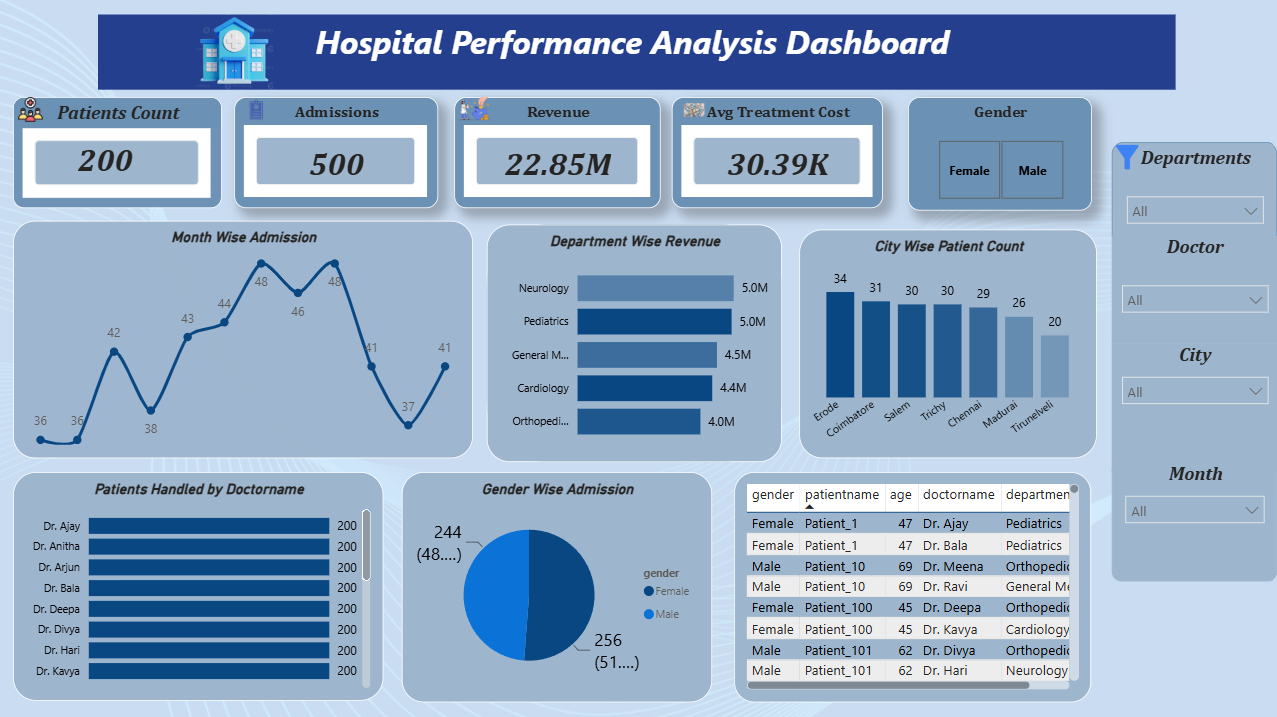

The page's visual inventory and layout, read from the dashboard file:
{"tool":"powerbi","page":{"name":"Page 1","canvas":[1280,720],"ordinal":0},"visuals":[{"type":"shape","box":[488.5,227.8,295,237.4],"z":0},{"type":"cardVisual","title":"Admissions","fields":{"Data":["public admissions.Total Admission"]},"box":[236.2,100,203.8,111.2],"z":2000},{"type":"cardVisual","title":"Revenue","fields":{"Data":["public admissions.Total Revenue"]},"box":[456.2,100,206.2,111.2],"z":3000},{"type":"cardVisual","title":"Avg Treatment Cost","fields":{"Data":["public admissions.Average Treatement cost"]},"box":[673.8,100.2,211.3,111.1],"z":4000},{"type":"lineChart","title":"Month Wise Admission","fields":{"Y":["public admissions.Total Admission"],"Category":["public admissions.admitdate.Variation.Date Hierarchy.Month"]},"box":[15,223.8,460,237.5],"z":5000},{"type":"pieChart","title":"Gender Wise Admission","fields":{"Category":["public patients.gender"],"Y":["public admissions.Total Admission"]},"box":[403.3,474.4,310,230],"z":6000},{"type":"clusteredBarChart","title":" Department Wise Revenue","fields":{"Y":["public admissions.Total Revenue"],"Category":["public departments.departmentname"]},"box":[488.5,227.8,295,237.4],"z":7000},{"type":"clusteredColumnChart","title":"City Wise Patient Count","fields":{"Category":["public patients.city"],"Y":["public admissions.Total Patients"]},"box":[801.4,231.9,297.8,229.2],"z":8000},{"type":"barChart","title":"Patients Handled by Doctorname","fields":{"Category":["public doctors.doctorname"],"Y":["public admissions.Total Patients"]},"box":[15.1,474.8,370.5,229.2],"z":9000},{"type":"slicer","title":"Departments","fields":{"Values":["public departments.departmentname"]},"box":[1113.3,144.4,166.7,104.4],"z":10000},{"type":"slicer","title":"Doctor","fields":{"Values":["public doctors.doctorname"]},"box":[1113.3,238.9,166.7,107.8],"z":11000},{"type":"slicer","title":"Gender","fields":{"Values":["public patients.gender"]},"box":[909.8,100.2,183.9,113.9],"z":12000},{"type":"slicer","title":"City","fields":{"Values":["public patients.city"]},"box":[1113.3,346.7,166.7,127.8],"z":13000},{"type":"slicer","title":"Month","fields":{"Values":["public admissions.dischargedate.Variation.Date Hierarchy.Month"]},"box":[1113.3,461.1,166.7,123.3],"z":14000},{"type":"textbox","box":[100,17.5,1077.5,75],"z":15000},{"type":"tableEx","fields":{"Values":["public patients.gender","public patients.patientname","public patients.age","public doctors.doctorname","public departments.departmentname"]},"box":[736.7,474.4,356.7,230],"z":16000},{"type":"cardVisual","title":"Patients Count           ","fields":{"Data":["public admissions.Total Patients"]},"box":[15,100,208.8,111.2],"z":17000},{"type":"image","box":[197.5,7.5,77.5,92.5],"z":18000},{"type":"image","box":[236,100.2,43.9,24.7],"z":19000},{"type":"image","box":[0,100.2,64.5,24.7],"z":20000},{"type":"image","box":[673.8,105.7,45.3,13.7],"z":21000},{"type":"image","box":[444.6,100.2,61.7,24.7],"z":22000},{"type":"image","box":[1081.3,144.1,96.1,32.9],"z":23000}]}

Visuals, with their boxes in screenshot pixels (x1, y1, x2, y2), scaled from the page's 1280x720 canvas onto the 1277x717 screenshot:
shape: bbox=[487, 227, 782, 463]
"Admissions" cardVisual: bbox=[236, 100, 439, 210]
"Revenue" cardVisual: bbox=[455, 100, 661, 210]
"Avg Treatment Cost" cardVisual: bbox=[672, 100, 883, 210]
"Month Wise Admission" lineChart: bbox=[15, 223, 474, 459]
"Gender Wise Admission" pieChart: bbox=[402, 472, 712, 701]
" Department Wise Revenue" clusteredBarChart: bbox=[487, 227, 782, 463]
"City Wise Patient Count" clusteredColumnChart: bbox=[800, 231, 1097, 459]
"Patients Handled by Doctorname" barChart: bbox=[15, 473, 385, 701]
"Departments" slicer: bbox=[1111, 144, 1276, 248]
"Doctor" slicer: bbox=[1111, 238, 1276, 345]
"Gender" slicer: bbox=[908, 100, 1091, 213]
"City" slicer: bbox=[1111, 345, 1276, 473]
"Month" slicer: bbox=[1111, 459, 1276, 582]
textbox: bbox=[100, 17, 1175, 92]
tableEx - public patients.gender x public patients.patientname: bbox=[735, 472, 1091, 701]
"Patients Count           " cardVisual: bbox=[15, 100, 223, 210]
image: bbox=[197, 7, 274, 100]
image: bbox=[235, 100, 279, 124]
image: bbox=[0, 100, 64, 124]
image: bbox=[672, 105, 717, 119]
image: bbox=[444, 100, 505, 124]
image: bbox=[1079, 143, 1175, 176]
